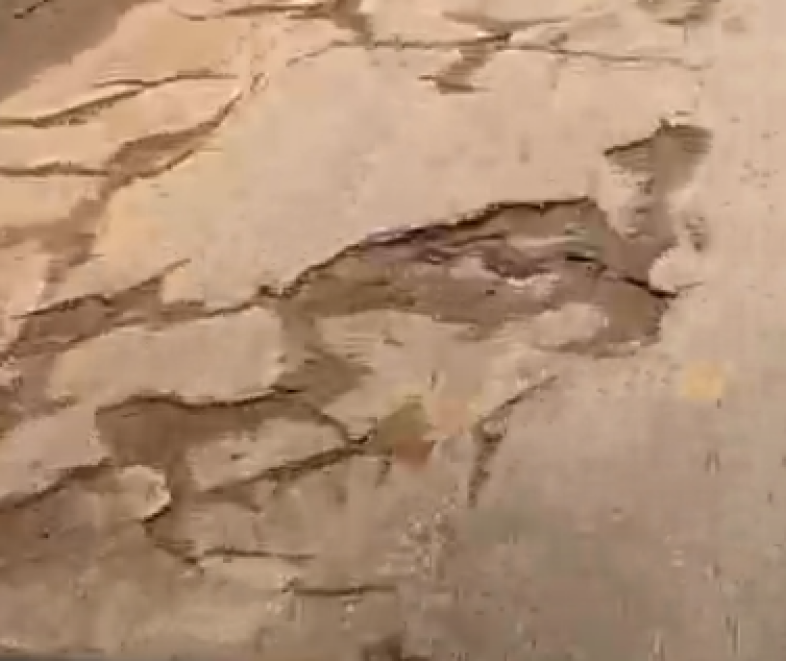Retak Buaya: (85, 373, 433, 605), (230, 256, 684, 377), (161, 1, 718, 99), (319, 193, 716, 279), (2, 73, 272, 179), (3, 279, 225, 368), (1, 463, 94, 593), (590, 117, 713, 207), (3, 182, 93, 294), (463, 389, 525, 527), (4, 362, 72, 446)
